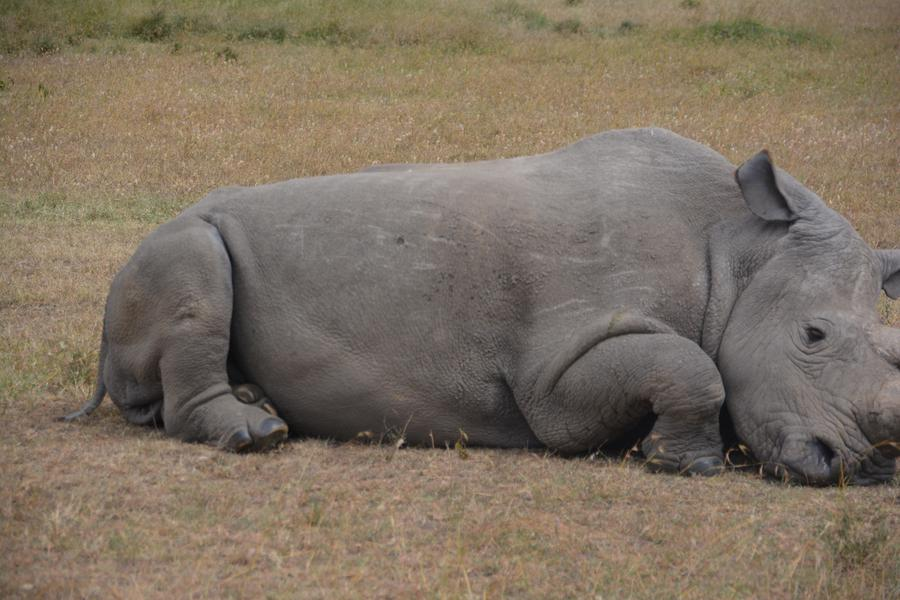rhino: (129, 117, 864, 483)
